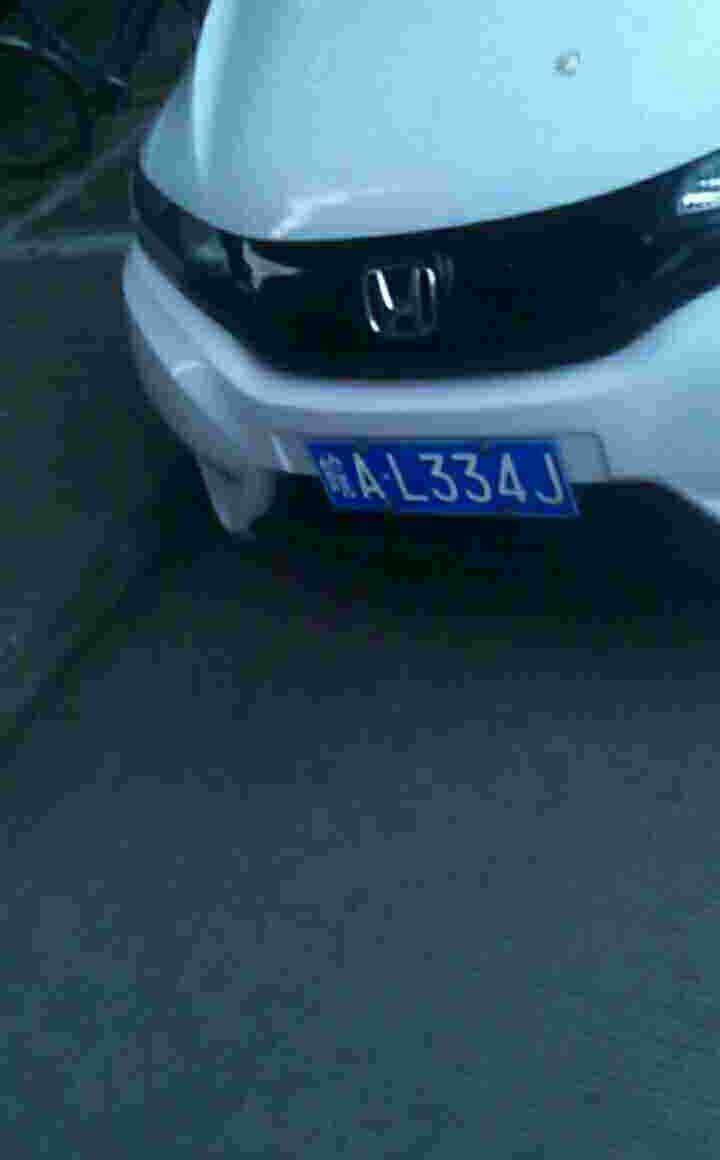car: (307, 435, 567, 525)
